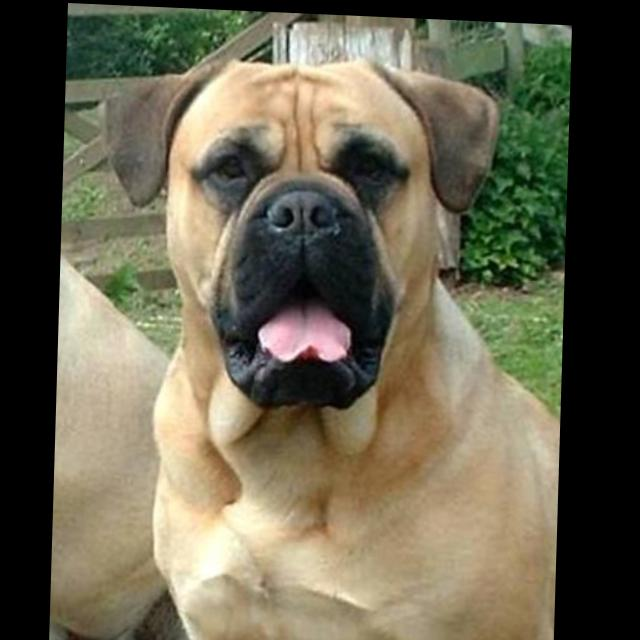bullmastiff: (88, 43, 573, 640)
